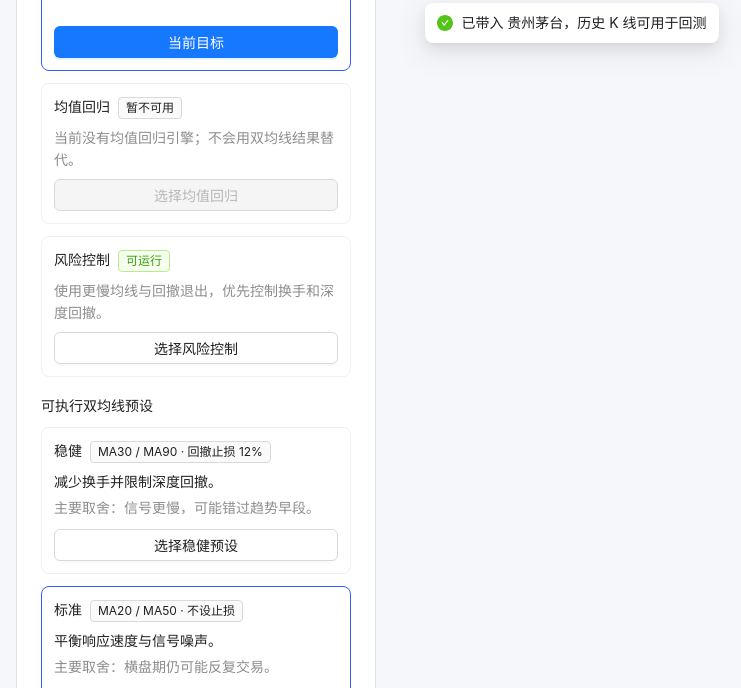
StrategyLab › maps the risk-control goal to the existing steady preset without running
(page scrolled)
Click the button "选择风险控制".
click(196, 348)  # box [54,332,338,364]
(page scrolled)
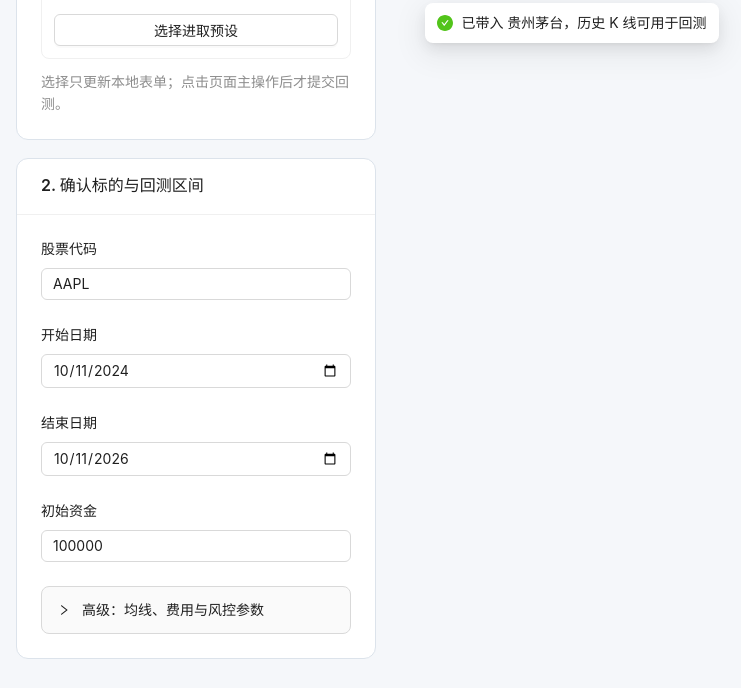
Click the button "高级：均线、费用与风控参数".
click(161, 609)  # box [58,601,264,618]
(page scrolled)
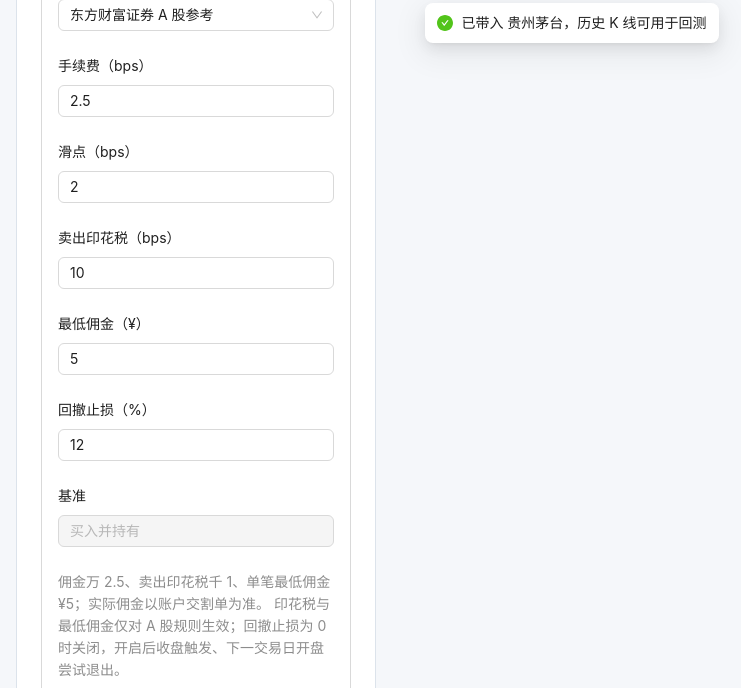
Result: the number field named "回撤止损" holds "12" at [59,430,333,460]
